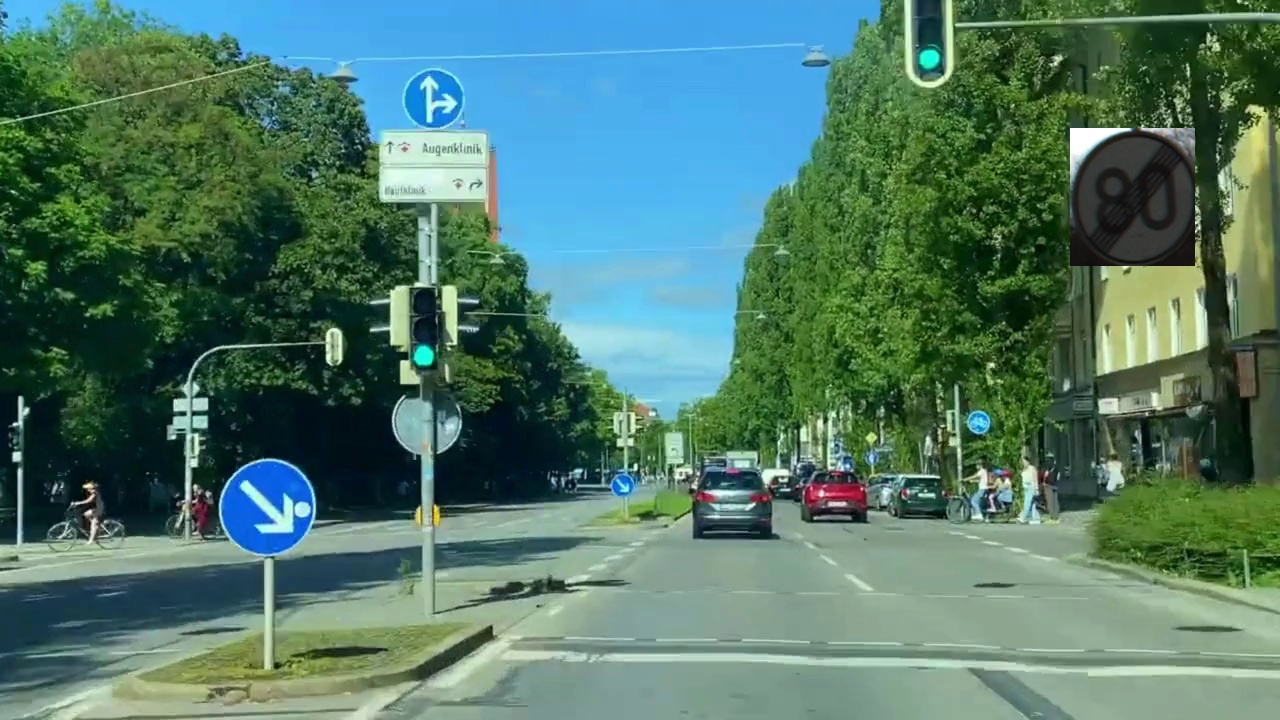End Speed 80: (1070, 128, 1195, 266)
